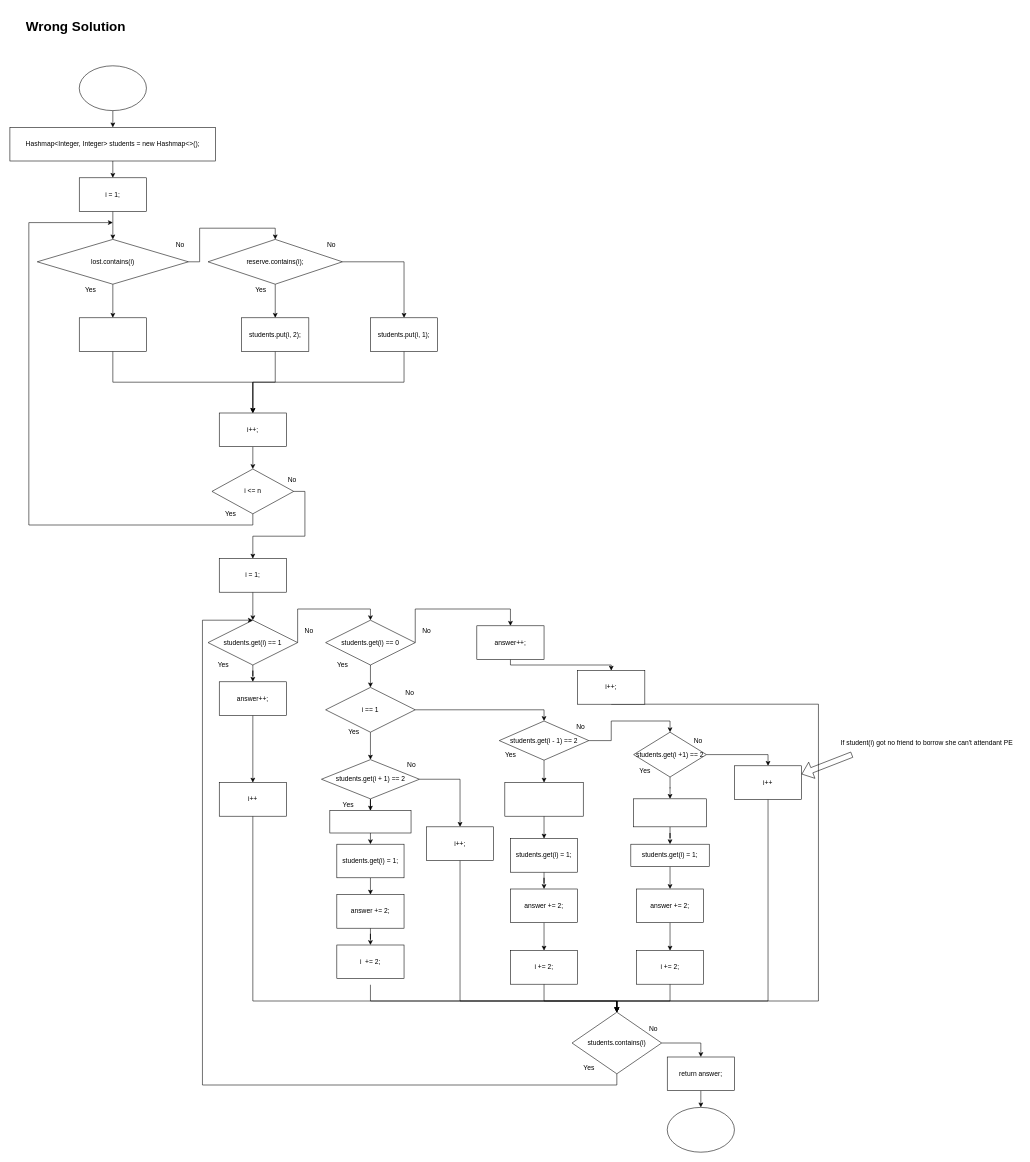
The diagram is 1030 pixels wide and 1162 high, and some of its shapes have lost their labels. The shapes that lost their labels are listed below. From the top down, each one's centre as x and y in pixels, then its label:
At point 112,88: "start".
At point 112,334: "students.put(i, 0);".
At point 543,799: "students.get(i - 1) = 1;".
At point 669,812: "students.get(i + 1) = 1;".
At point 370,821: "students.get(i +1) = 1;".
At point 700,1129: "End".
